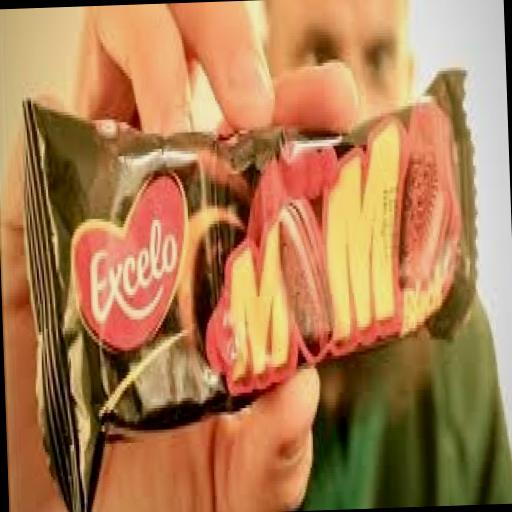MOMO: (14, 32, 504, 456)
